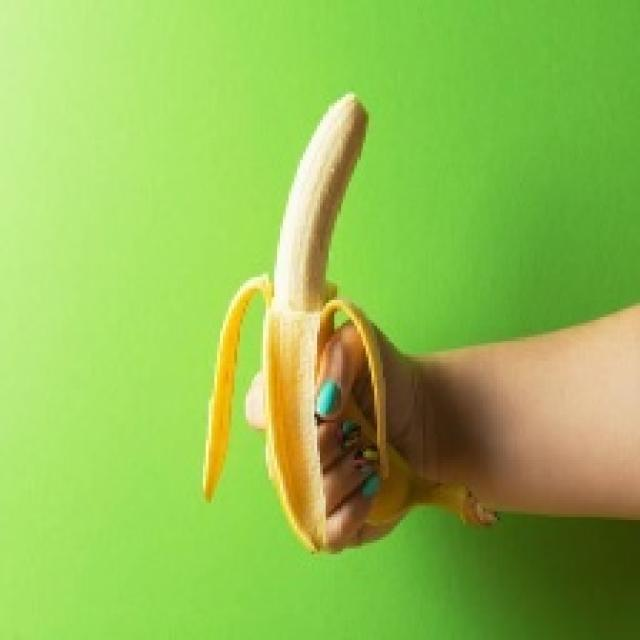Banana: (200, 89, 497, 554)
